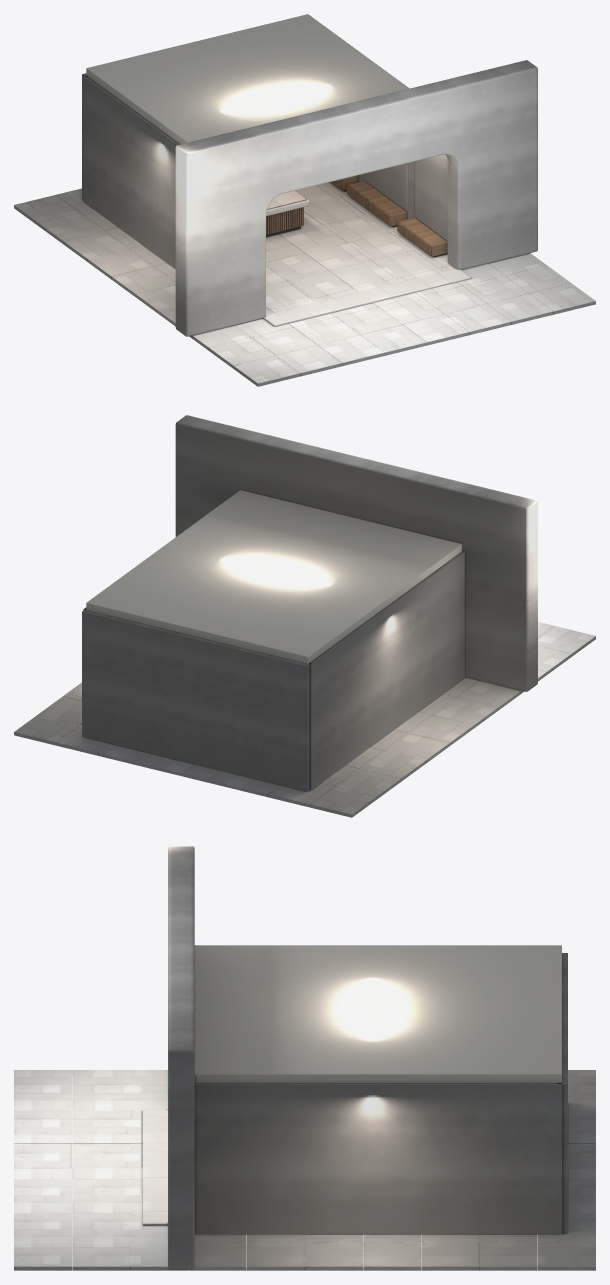
File: architecture.glb
3 renders of one model, top to bottom at view 1: azimuth 30°, elevation 25°; view 2: azimuth 150°, elevation 25°; view 3: azimuth 270°, elevation 25°, orthographic. The views are drawn at different scales.
Parts seen in each view (by area): view 1: ANQA_baked_architecture; view 2: ANQA_baked_architecture; view 3: ANQA_baked_architecture.
Boxes of the visible parts, <box> form: ANQA_baked_architecture: <box>14,14,595,386</box>; ANQA_baked_architecture: <box>14,415,595,817</box>; ANQA_baked_architecture: <box>14,846,595,1270</box>.
Bounding box in the file's own units: 10 × 5.15 × 12.
Materials: 1 (1 with a texture image).
